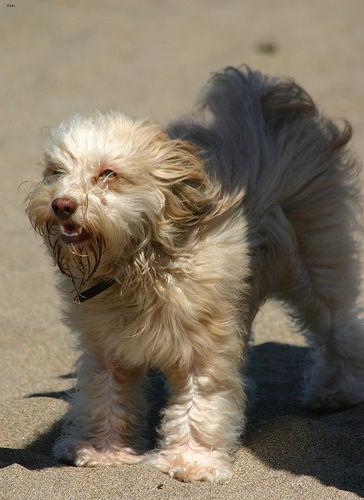dog-havanese: (29, 113, 183, 257)
